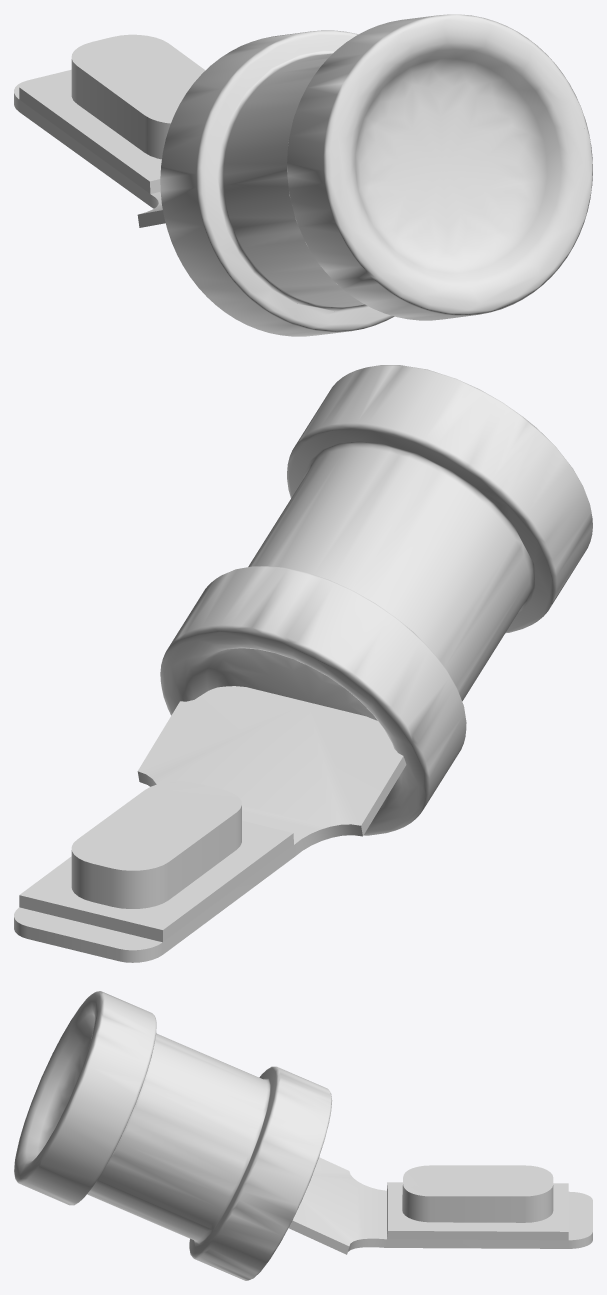
File: 08_ChargingHandle_UVReady.fbx
3 views of the same model, one above another, from view 1: azimuth 30°, elevation 25°; view 2: azimuth 150°, elevation 25°; view 3: azimuth 270°, elevation 25° (orthographic). The views are drawn at different scales.
Parts seen in each view (by area): view 1: 08_ChargingHandle; view 2: 08_ChargingHandle; view 3: 08_ChargingHandle.
Part boxes in pixels (box(x1,y1,x2,y2)): 08_ChargingHandle: box(14, 14, 592, 336); 08_ChargingHandle: box(14, 365, 592, 962); 08_ChargingHandle: box(14, 991, 592, 1280).
Size of the model in its own units: 0.0247 by 0.0349 by 0.0682.
Materials: 1 (1 with a texture image).
